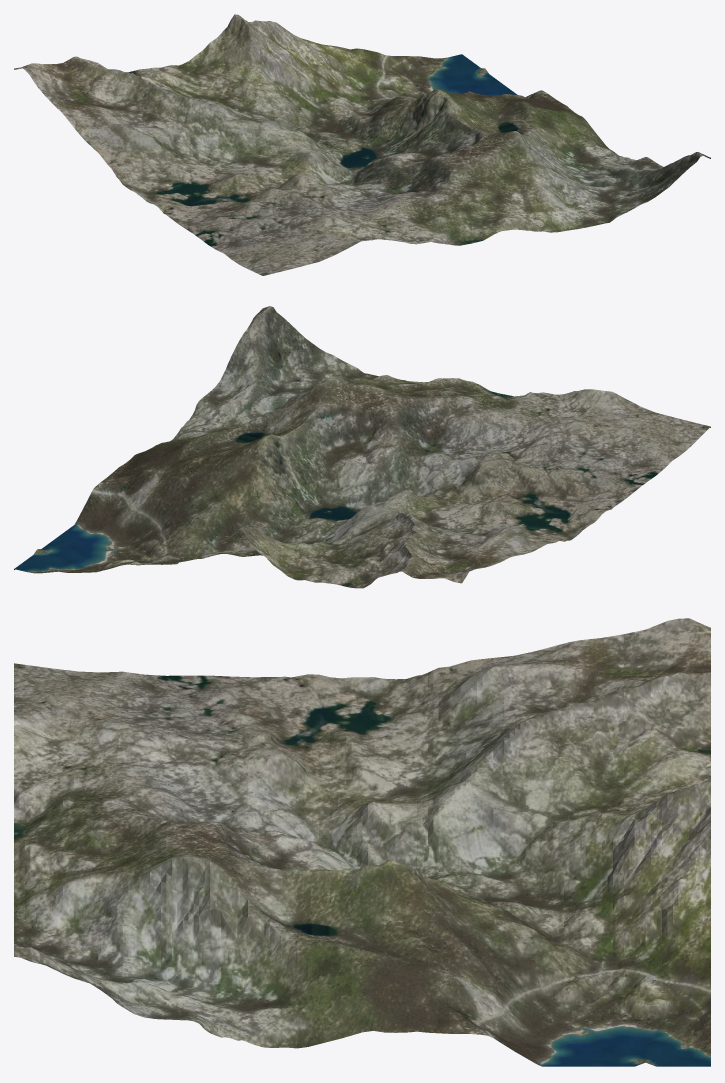
The picture shows the model from 3 angles, top to bottom: view 1: azimuth 30°, elevation 25°; view 2: azimuth 150°, elevation 25°; view 3: azimuth 270°, elevation 25°; orthographic projection. The views are drawn at different scales.
Size of the model in its own units: 4001 by 880 by 3850.
1 material, 1 textured.
